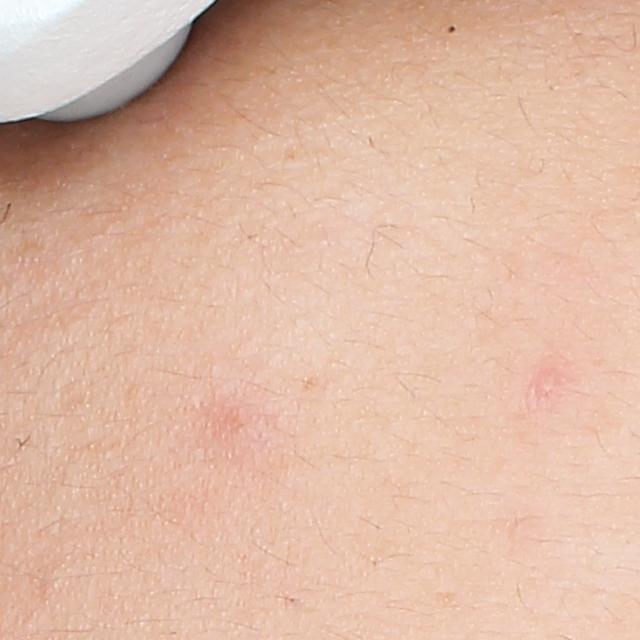comedo: (446, 22, 459, 36)
papule: (524, 362, 564, 409)
